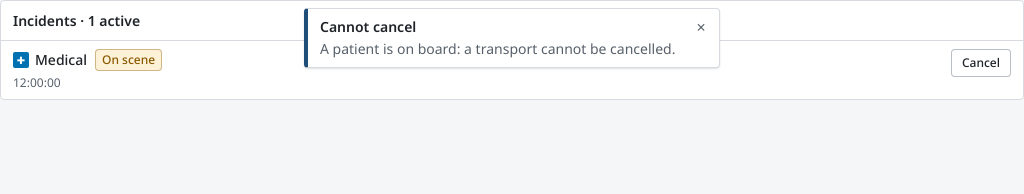
Test: IncidentsPanel › handles a 409 cannot_cancel_transport (the patient was picked up meanwhile)
The image size is (1024, 194).
Click the button with aria-label "Cancel medical incident". click: coordinates (981, 63)
box: [951,49,1011,77]
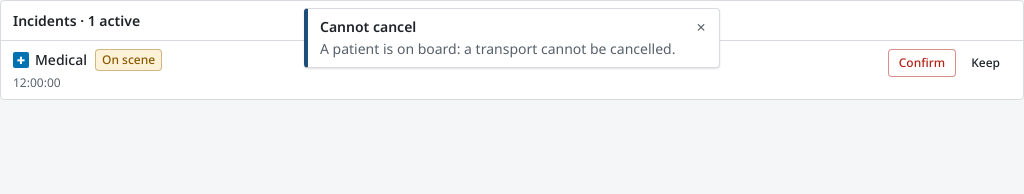
Click the button "Confirm". click: coordinates (922, 63)
box: [888,49,956,77]
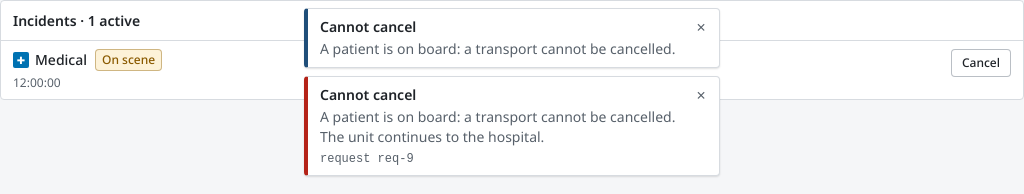
Expected: the text "Cannot cancel" is shown, [319,84,416,104]
Expected: the text "A patient is on board" is shown, [320,107,676,146]
Expected: the text "request req-9" is shown, [320,152,414,166]
